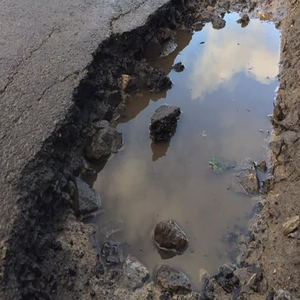pothole: (10, 2, 285, 299)
